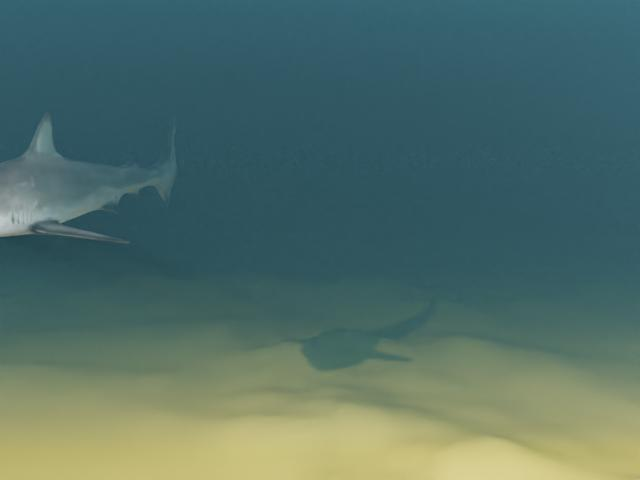Carribean Shark.001: (0, 111, 177, 243)
